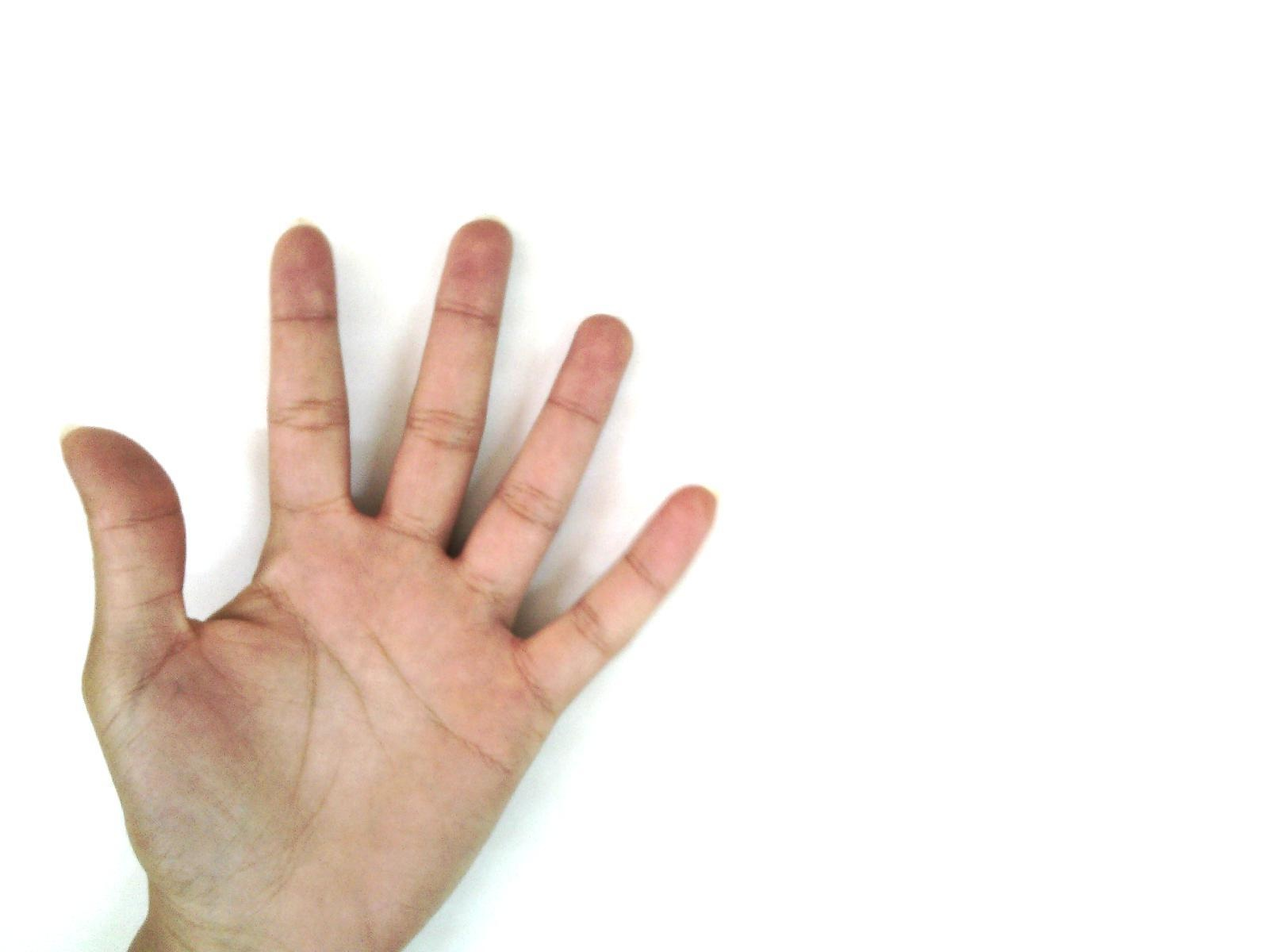open_palm: (59, 216, 720, 950)
